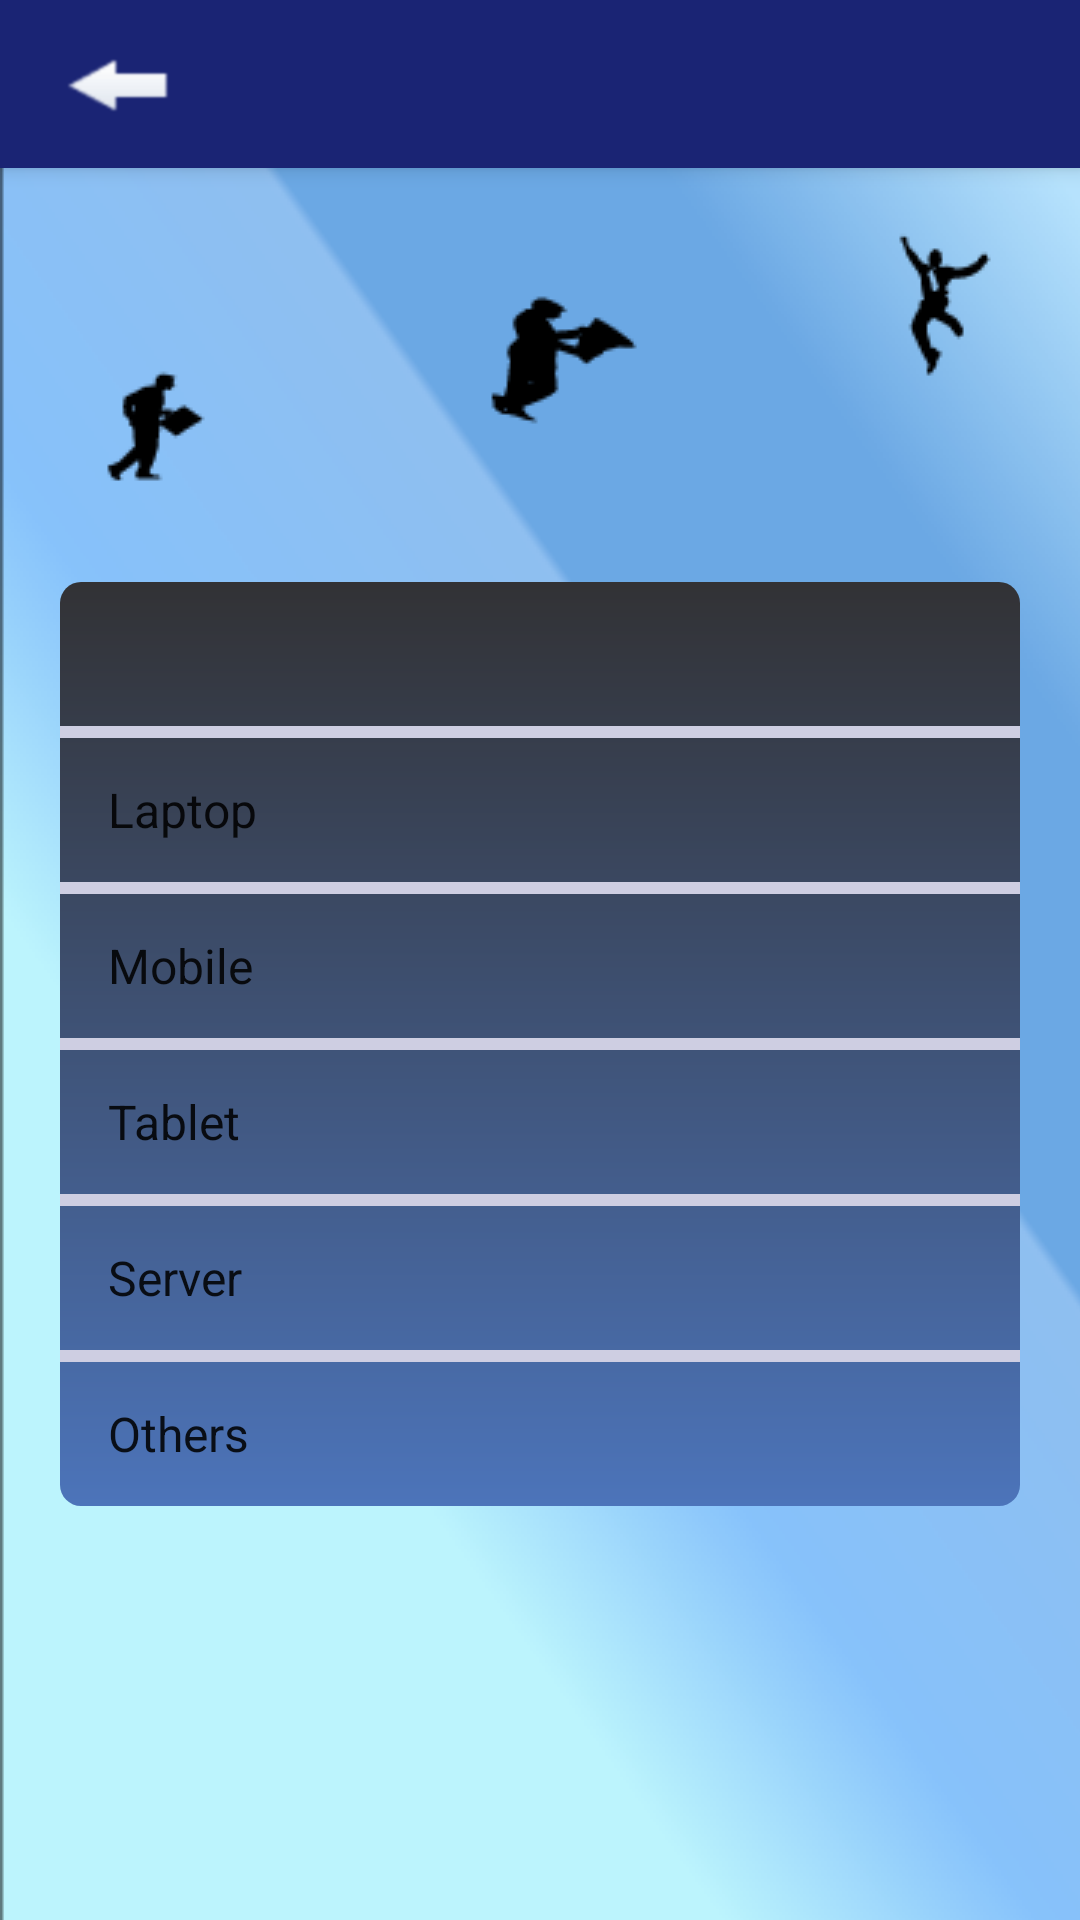

Icons on this 1080px×1920px Android screen, each with its box as (x1,y1,x2,y2):
backbutton: (68,60,168,111)
